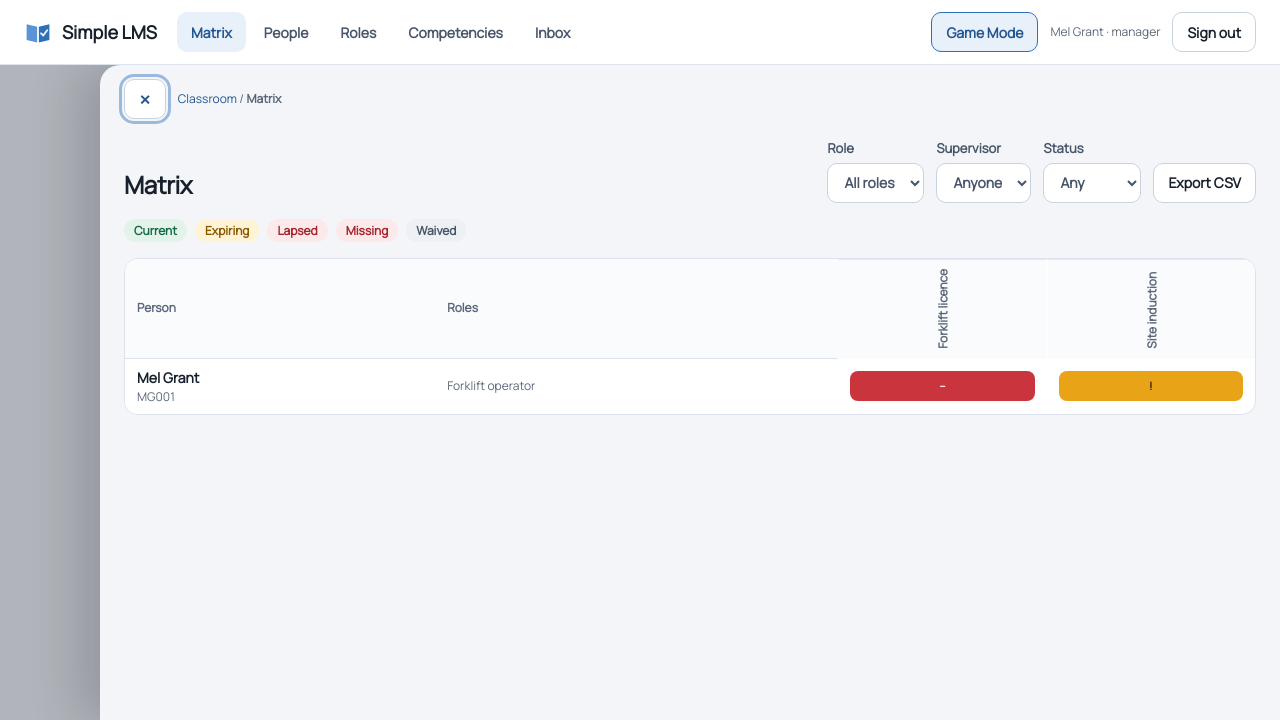
Test case: the matrix › tells a manager they can't record their own
The image size is (1280, 720).
Click the button named "Mel Grant, Forklift licence: Missing" at (943, 386), box left=850, top=371, right=1035, bottom=401
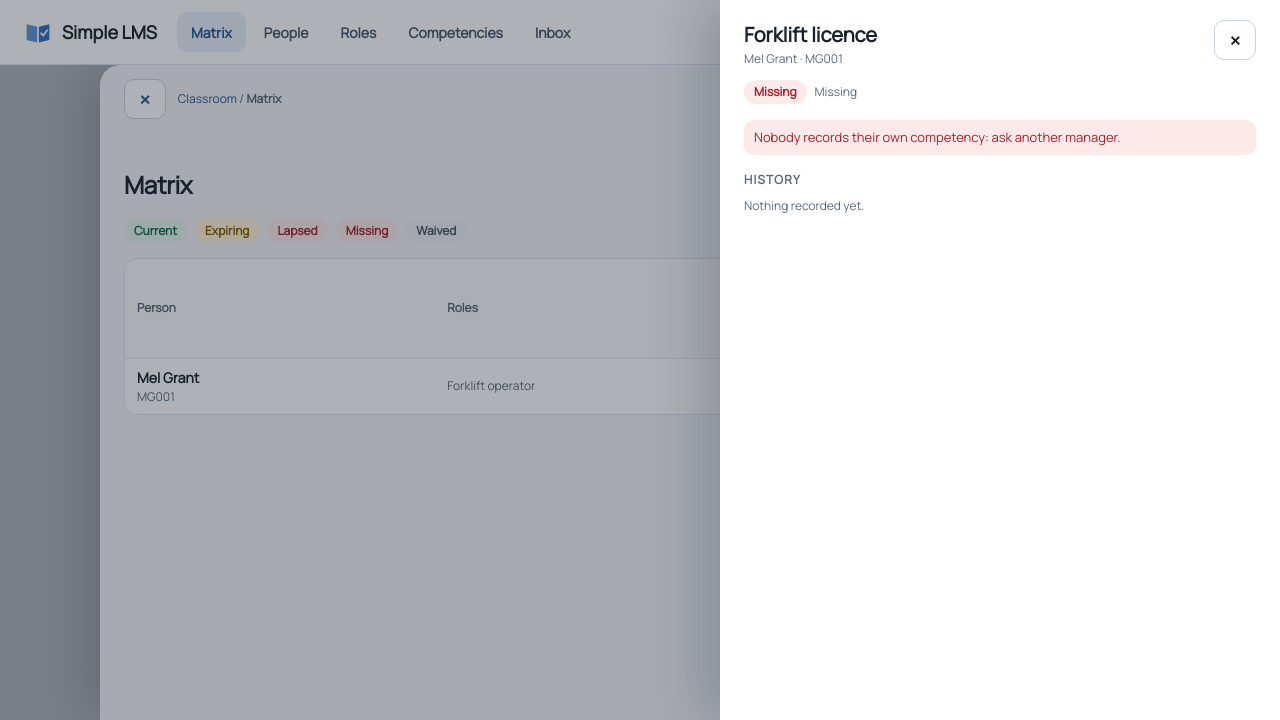
Check: the text "Nobody records their own competency: ask another manager." is shown, box left=744, top=120, right=1256, bottom=155
